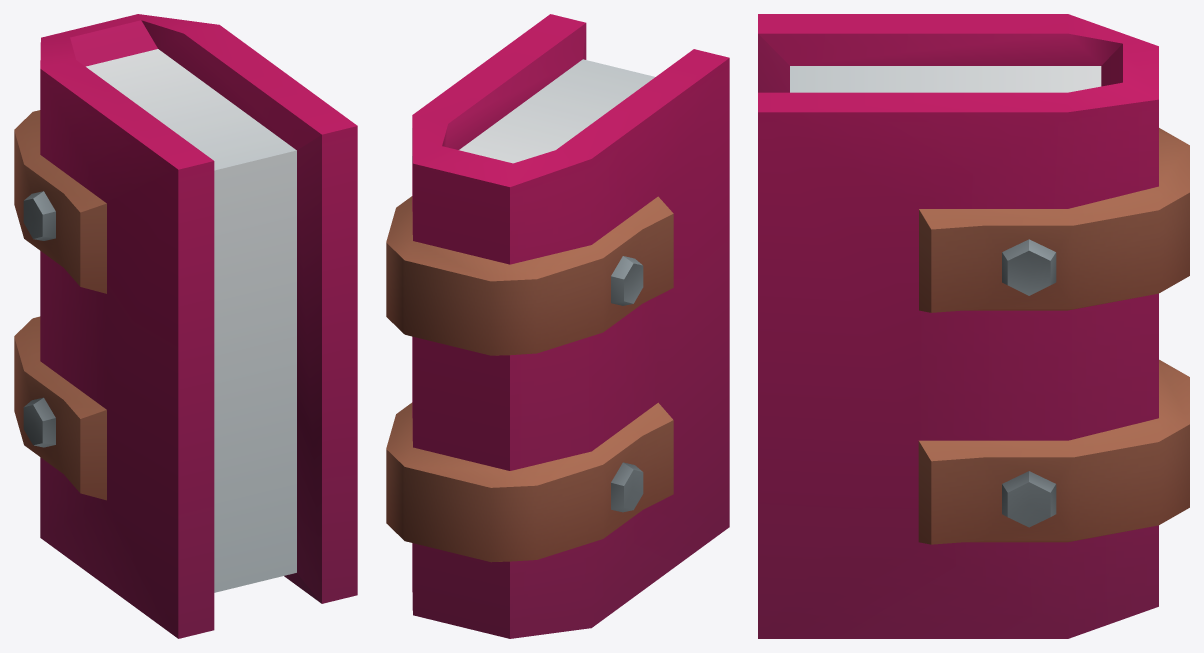
3 views of the same model, side by side, from view 1: azimuth 30°, elevation 25°; view 2: azimuth 150°, elevation 25°; view 3: azimuth 270°, elevation 25° (orthographic). The views are drawn at different scales.
Parts seen in each view (by area): view 1: spellbook_closed; view 2: spellbook_closed; view 3: spellbook_closed.
Part boxes in pixels (bbox=[...]): spellbook_closed: bbox=[14, 14, 357, 638]; spellbook_closed: bbox=[386, 14, 729, 638]; spellbook_closed: bbox=[758, 14, 1189, 638].
Bounding box in the file's own units: 0.293 × 0.575 × 0.4271.
Materials: 1 (1 with a texture image).
